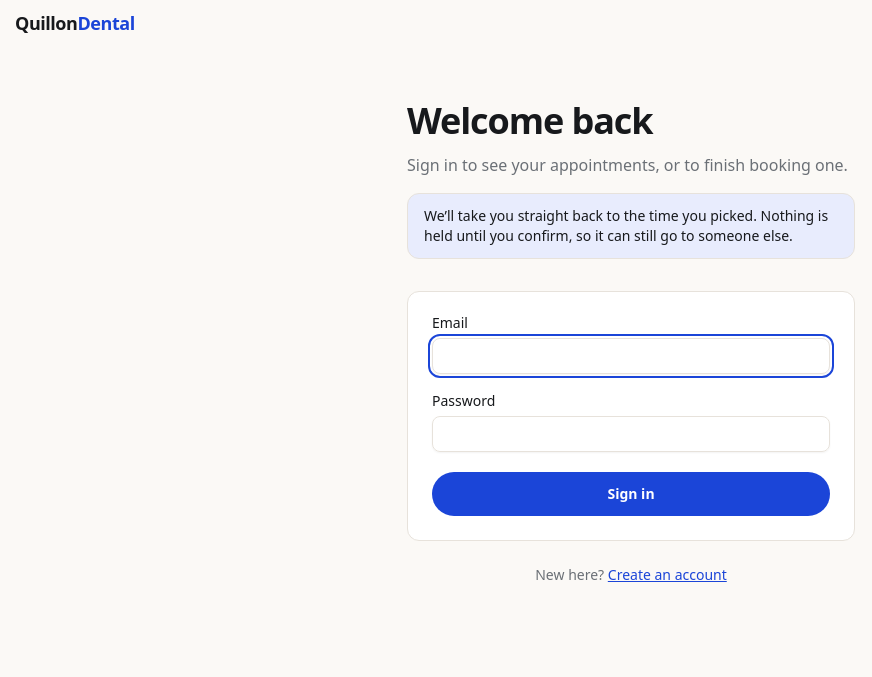
Test: SignIn › carries the destination across to sign-up
Click the link "Create an account" at [667, 574], box [608, 565, 727, 584]
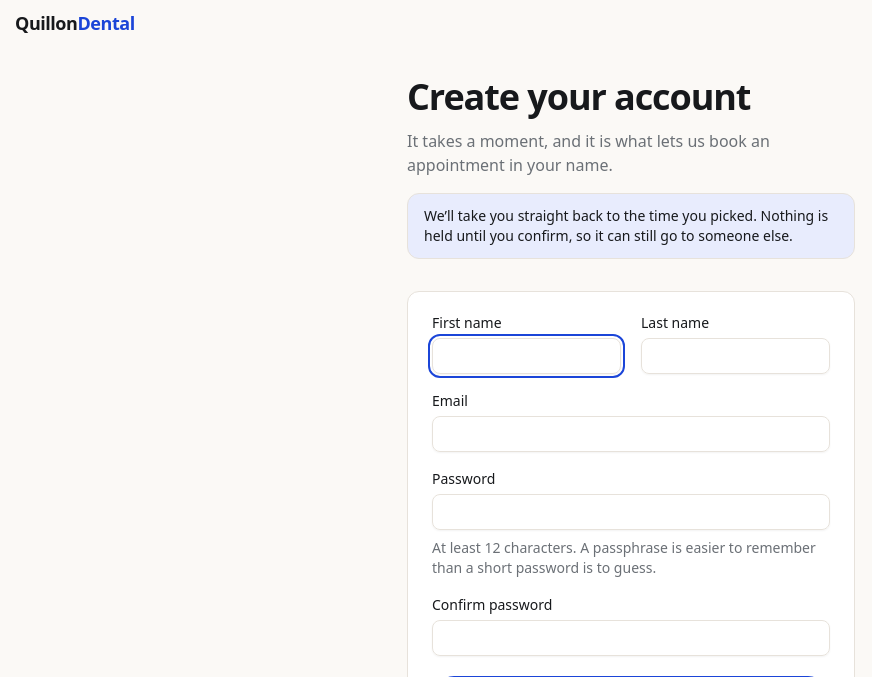
Check: the heading "Create your account" is shown, box [407, 72, 750, 121]
